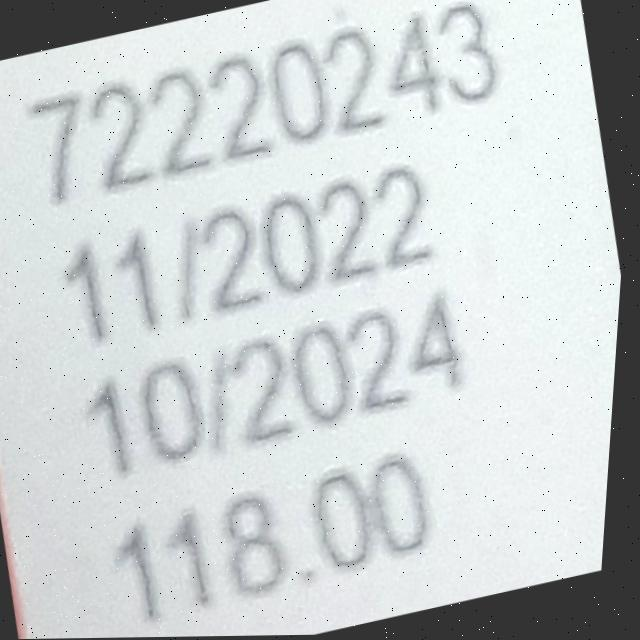sentence: (31, 2, 499, 203), (94, 295, 463, 473), (68, 167, 435, 344), (123, 454, 441, 619)
